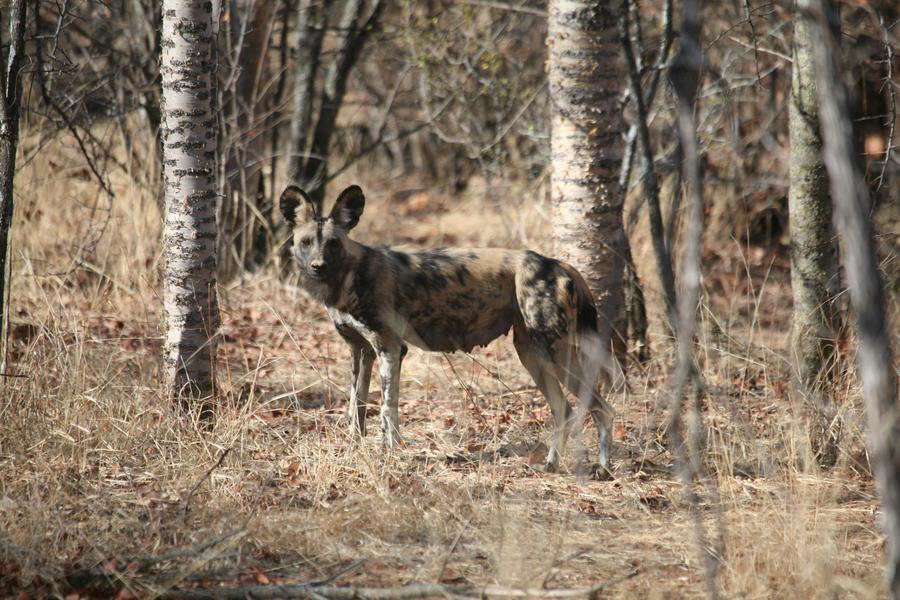wilddog: (289, 203, 609, 435)
